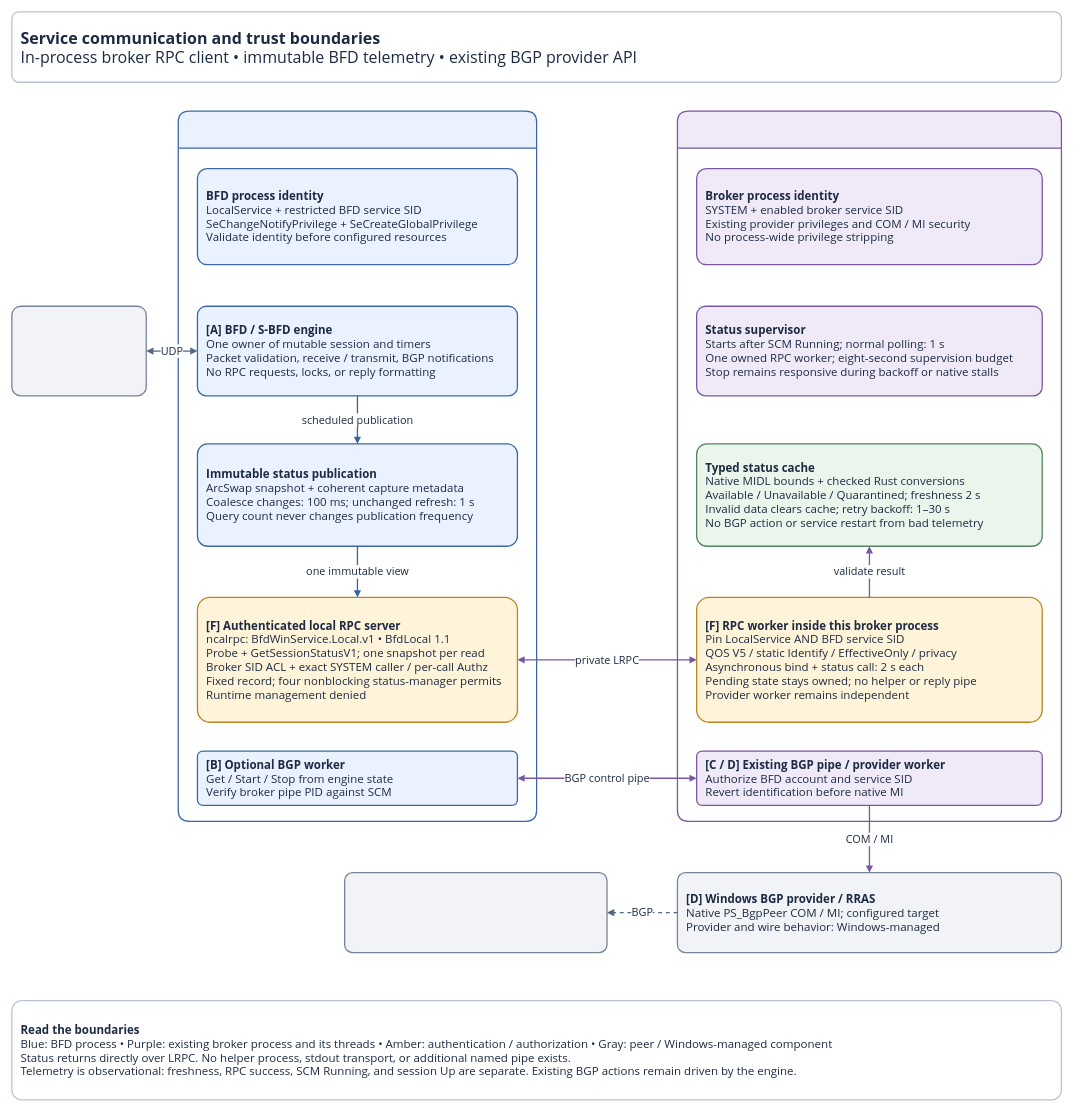
Image size: 1073x1111. Some labels were removed from this diagram. Here are the shapes that lost their labels. From the top down, the box of each, then its label:
(11, 305, 147, 396): Remote BFD peer UDP BFD / S-BFD Configured path checks and wire authentication
(177, 110, 537, 822): BfdWinService | bfd-winservice.exe
(676, 110, 1062, 822): BfdBgpBroker | bfd-bgp-broker.exe
(344, 872, 607, 953): Remote BGP peer Connection managed by Windows RRAS
